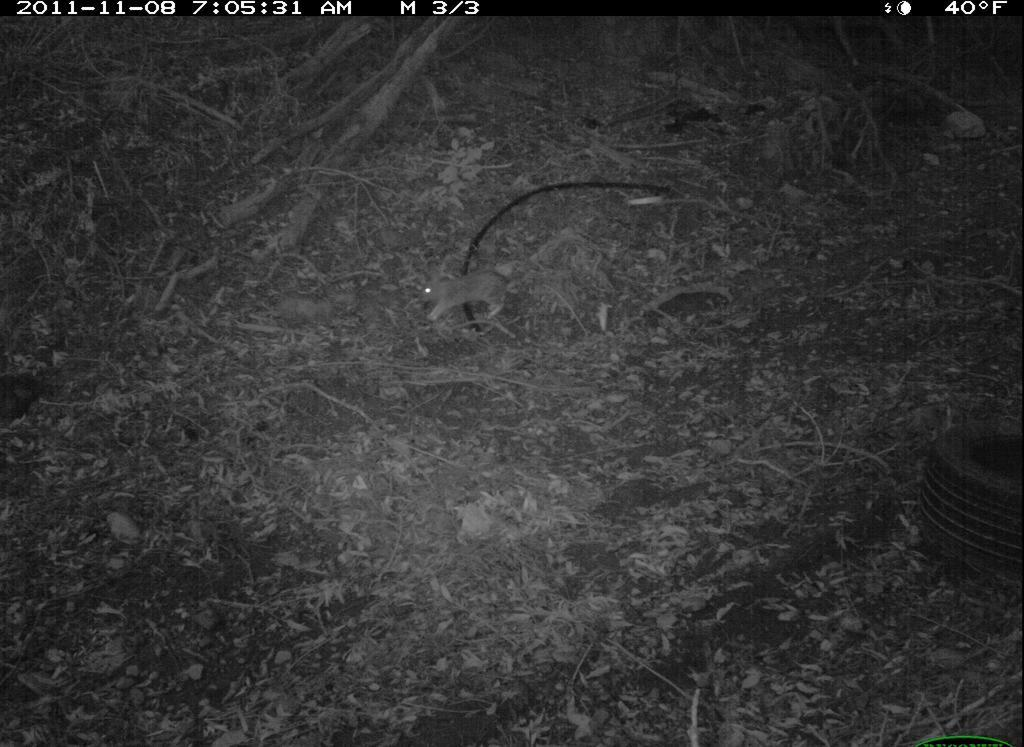rabbit: (410, 258, 528, 329)
